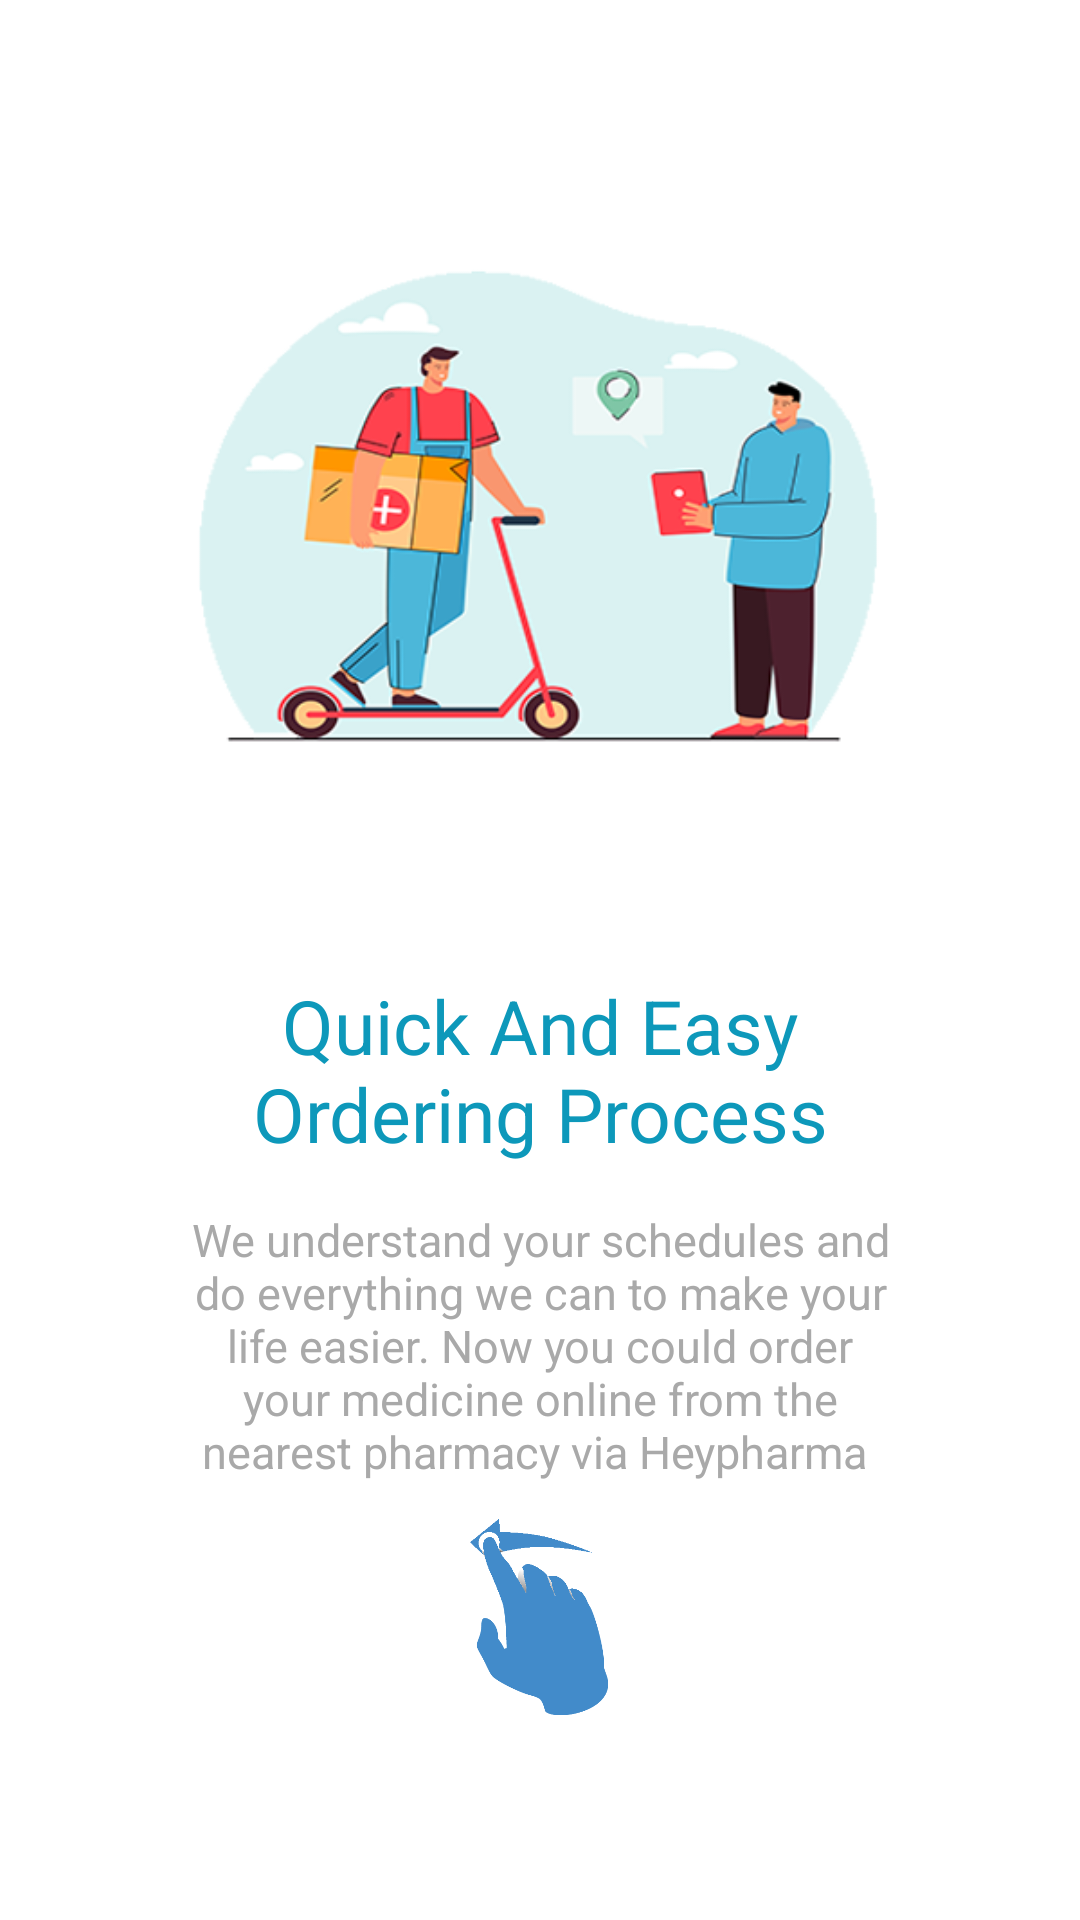

Point at icon controls on the screen. Image size 1080 x 1920, points as point (x, y).
swipe: point (539, 1617)
